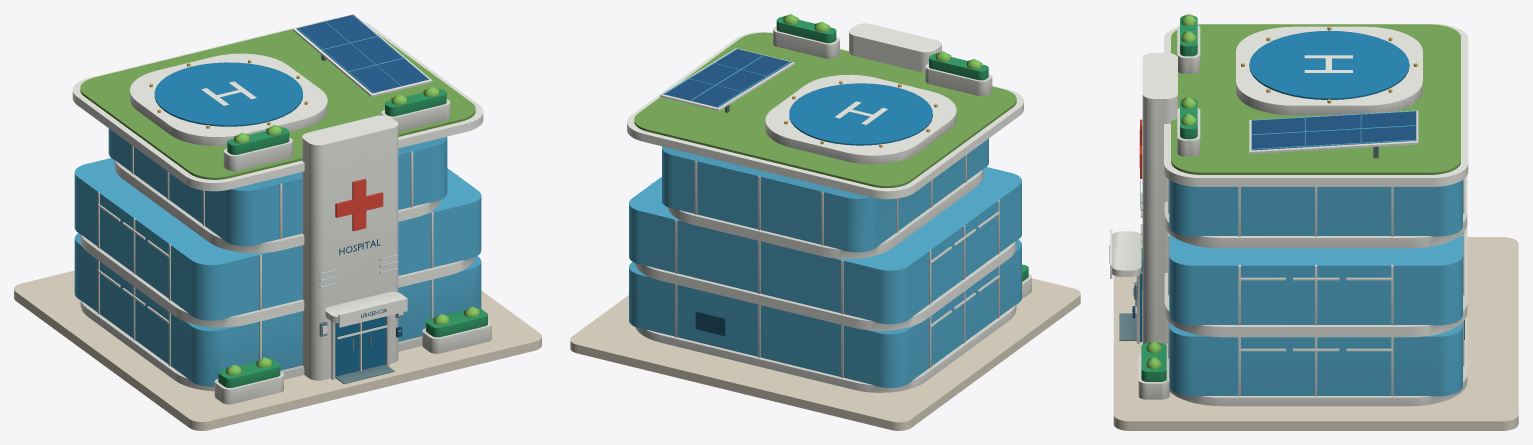
The model's file is hospital.glb.
The picture shows the model from 3 angles, left to right: view 1: azimuth 30°, elevation 25°; view 2: azimuth 150°, elevation 25°; view 3: azimuth 270°, elevation 25°; orthographic projection. The views are drawn at different scales.
Parts seen in each view (by area): view 1: continuous blue glazing, curving medical floor, hospital foundation, medical garden roof, helipad blue disc, photovoltaic cells, planter foliage, red medical cross, shrub tip, panel foot; view 2: continuous blue glazing, curving medical floor, hospital foundation, medical garden roof, helipad blue disc, photovoltaic cells, planter foliage, identity URGENCIA, shrub tip; view 3: continuous blue glazing, curving medical floor, hospital foundation, medical garden roof, helipad blue disc, photovoltaic cells, planter foliage, shrub tip, panel foot.
Part boxes in pixels (x1,y1,x2,y2): continuous blue glazing: (74, 14, 481, 386); curving medical floor: (72, 14, 491, 404); hospital foundation: (14, 270, 541, 430); medical garden roof: (80, 29, 475, 179); helipad blue disc: (154, 62, 385, 376); photovoltaic cells: (296, 15, 429, 93); planter foliage: (218, 89, 487, 387); red medical cross: (335, 179, 383, 231); shrub tip: (226, 86, 480, 375); panel foot: (319, 55, 403, 383); continuous blue glazing: (629, 48, 1021, 387); curving medical floor: (627, 23, 1031, 392); hospital foundation: (570, 278, 1080, 430); medical garden roof: (634, 32, 1016, 188); helipad blue disc: (789, 83, 932, 145); photovoltaic cells: (663, 49, 791, 107); planter foliage: (776, 16, 1028, 281); identity URGENCIA: (695, 311, 725, 335); shrub tip: (783, 14, 982, 69); continuous blue glazing: (1169, 110, 1462, 396); curving medical floor: (1110, 24, 1468, 406); hospital foundation: (1113, 237, 1518, 430); medical garden roof: (1171, 24, 1460, 174); helipad blue disc: (1140, 30, 1409, 341); photovoltaic cells: (1251, 111, 1416, 150); planter foliage: (1141, 16, 1197, 381); shrub tip: (1146, 14, 1196, 369); panel foot: (1119, 146, 1378, 340).
Size of the model in its own units: 4.9 by 3.41 by 4.6.
